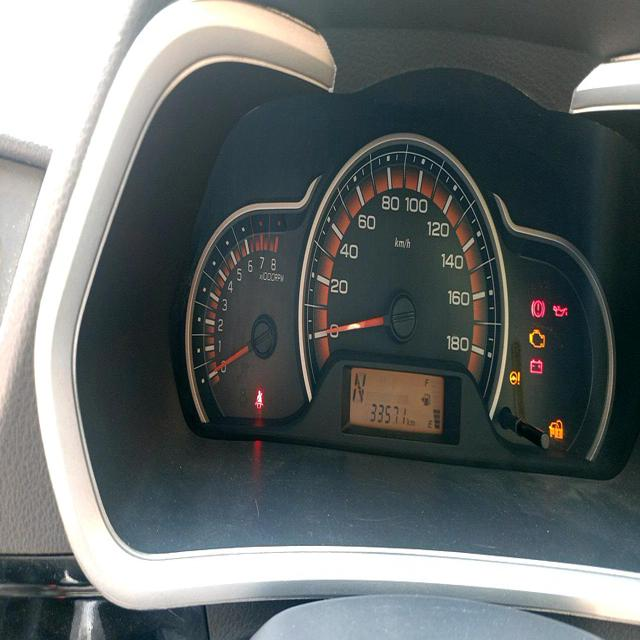odometer: (368, 399, 408, 428)
